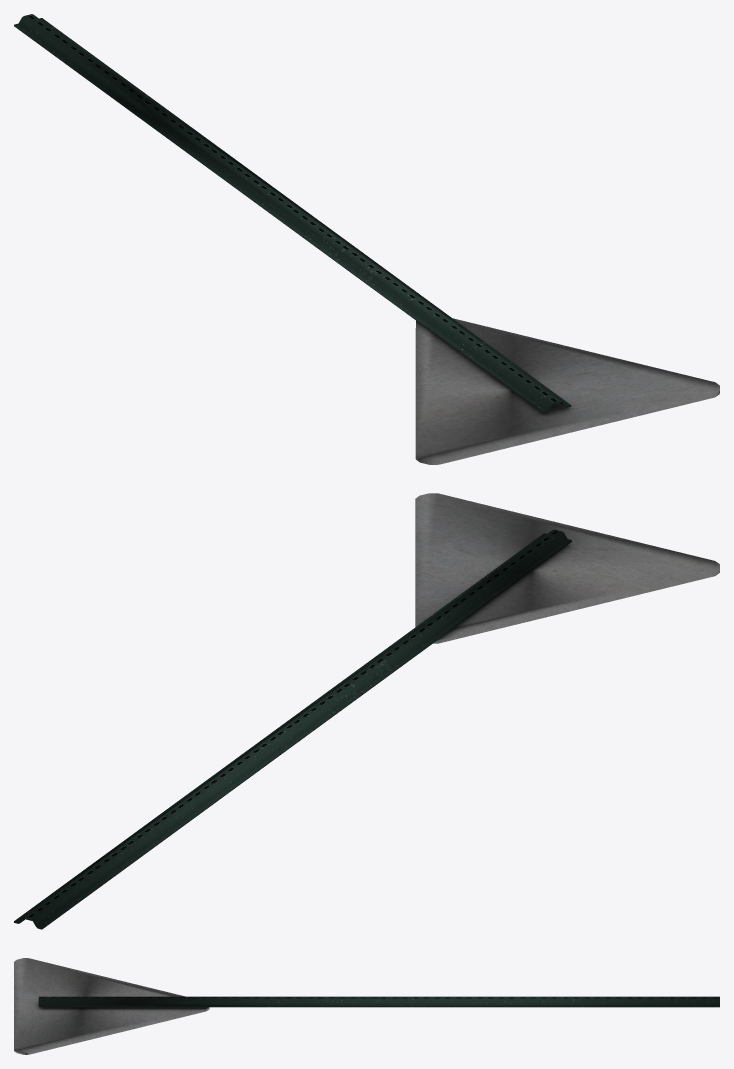
The model's file is signyield.fbx.
3 renders of one model, top to bottom at view 1: azimuth 30°, elevation 25°; view 2: azimuth 150°, elevation 25°; view 3: azimuth 270°, elevation 25°, orthographic. The views are drawn at different scales.
Visible parts, largest first — view 1: signyield; view 2: signyield; view 3: signyield.
Part boxes in pixels (x1,y1,x2,y2): signyield: [14, 14, 719, 464]; signyield: [14, 493, 719, 929]; signyield: [14, 958, 719, 1054].
Size of the model in its own units: 0.802 by 0.038 by 2.54.
